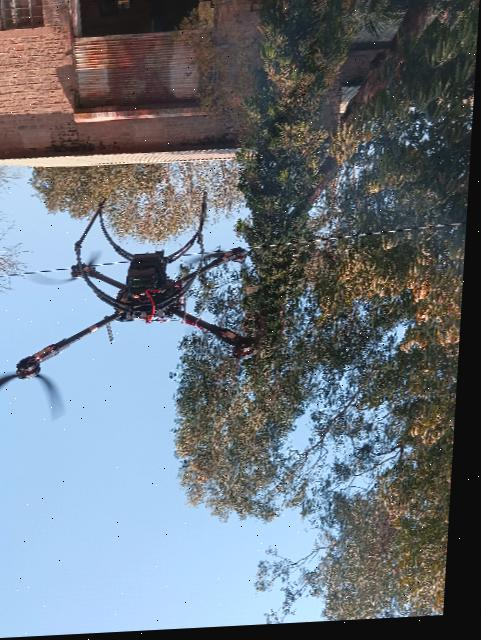drone: (0, 181, 324, 439)
